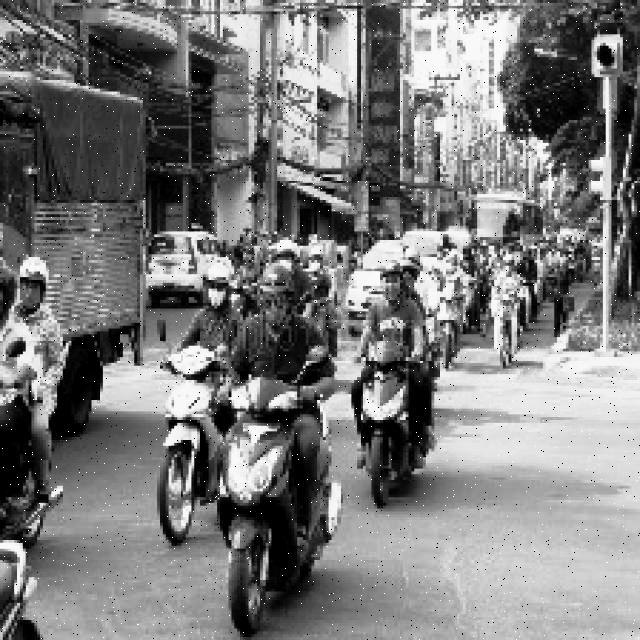Bike: (214, 382, 340, 625), (349, 325, 437, 491), (146, 332, 218, 528)
